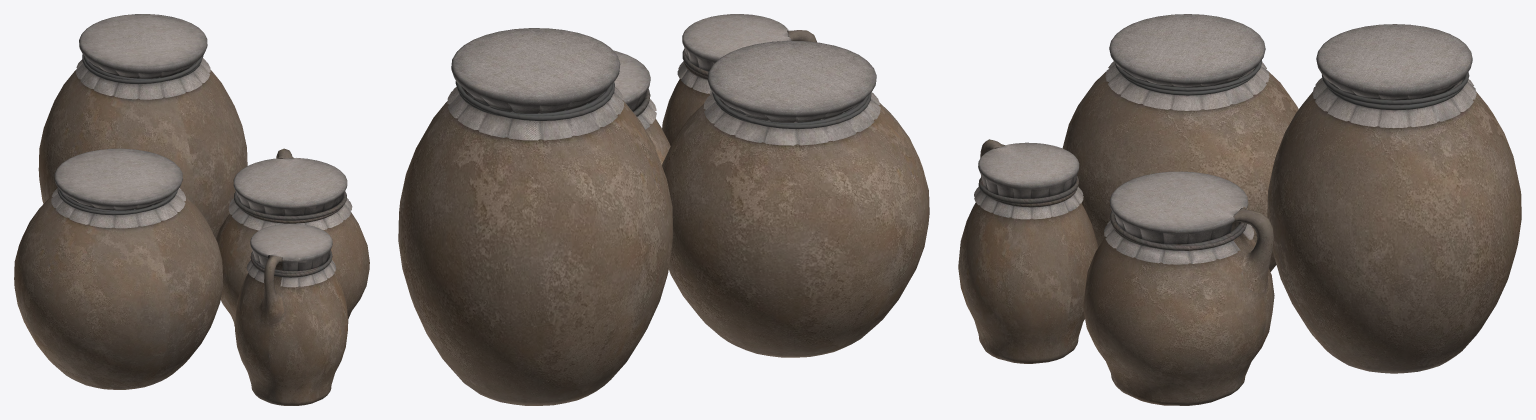
Rendered from jarrones de miel glb.draco.glb.
The picture shows the model from 3 angles, left to right: view 1: azimuth 30°, elevation 25°; view 2: azimuth 150°, elevation 25°; view 3: azimuth 270°, elevation 25°; orthographic projection. The views are drawn at different scales.
Parts seen in each view (by area): view 1: Pot_02023, Pot_02024, Pot_01014, Pot_01013; view 2: Pot_02024, Pot_02023, Pot_01014, Pot_01013; view 3: Pot_02024, Pot_01013, Pot_02023, Pot_01014.
Part boxes in pixels (x1,y1,x2,y2): Pot_02023: (14, 148, 223, 389); Pot_02024: (38, 14, 247, 238); Pot_01014: (235, 223, 348, 405); Pot_01013: (216, 148, 369, 326); Pot_02024: (398, 28, 673, 405); Pot_02023: (662, 40, 929, 357); Pot_01014: (662, 14, 816, 145); Pot_01013: (613, 50, 670, 165); Pot_02024: (1267, 24, 1521, 373); Pot_01013: (1083, 171, 1274, 405); Pot_02023: (1062, 14, 1298, 271); Pot_01014: (958, 139, 1097, 363).
Bounding box in the file's own units: 0.8917 × 0.6261 × 1.1.
2 materials, 2 textured.
